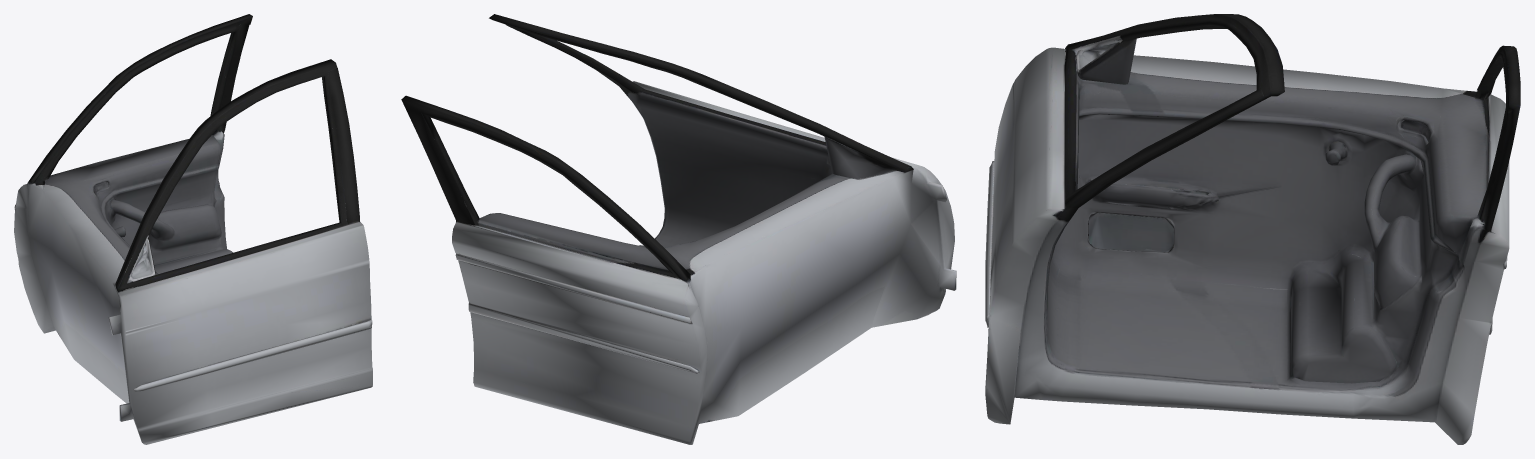
The model's file is original_glb.glb.
3 views of the same model, side by side, from view 1: azimuth 30°, elevation 25°; view 2: azimuth 150°, elevation 25°; view 3: azimuth 270°, elevation 25° (orthographic). The views are drawn at different scales.
Parts seen in each view (by area): view 1: right front door; view 2: right front door; view 3: right front door.
Boxes of the visible parts, x1,y1,x2,y2 form: right front door: (14,14,372,444); right front door: (401,14,956,444); right front door: (985,14,1520,444).
Bounding box in the file's own units: 0.9863 × 0.8145 × 0.998.
1 material, 1 textured.
